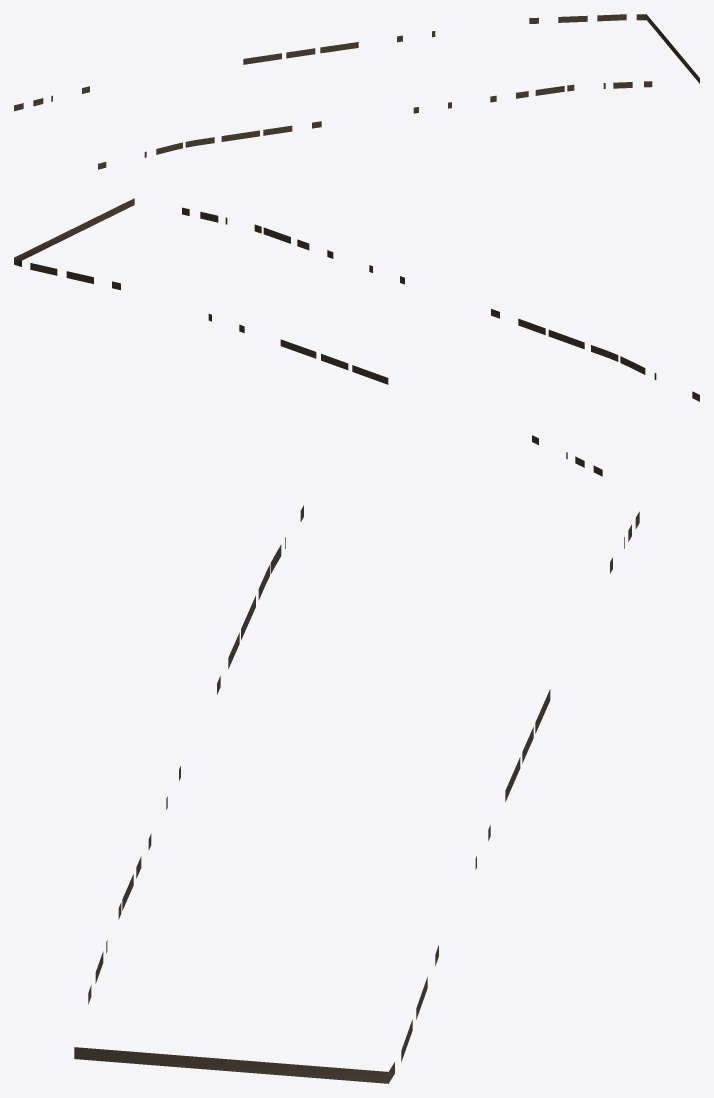
The picture shows the model from 3 angles, top to bottom: view 1: azimuth 30°, elevation 25°; view 2: azimuth 150°, elevation 25°; view 3: azimuth 270°, elevation 25°; orthographic projection. The views are drawn at different scales.
Visible parts, largest first — view 1: prototype; view 2: prototype; view 3: prototype.
Part boxes in pixels (x1,y1,x2,y2): prototype: (14, 14, 699, 169); prototype: (14, 198, 699, 476); prototype: (74, 505, 639, 1083).
Bounding box in the file's own units: 31.93 × 1.1 × 13.7.
